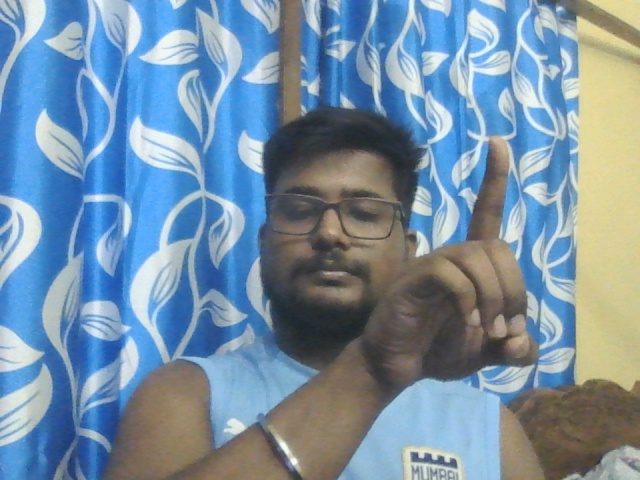D: (377, 137, 539, 390)
